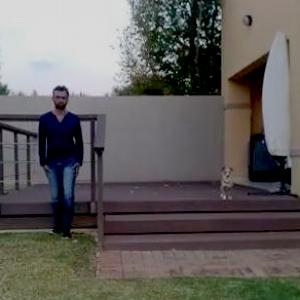follow: (39, 79, 85, 246)
